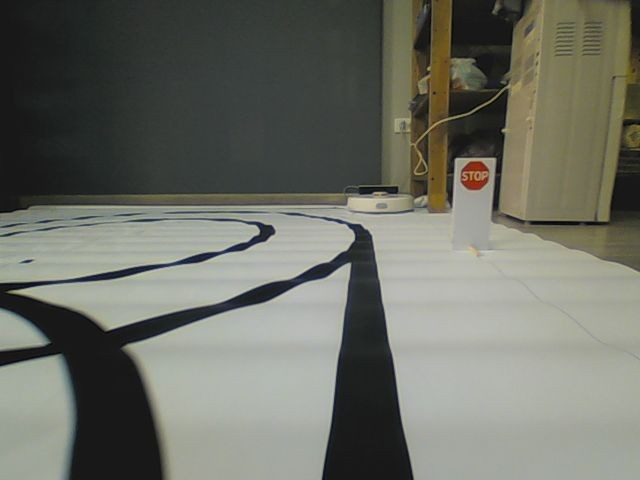Stop: (459, 160, 490, 191)
